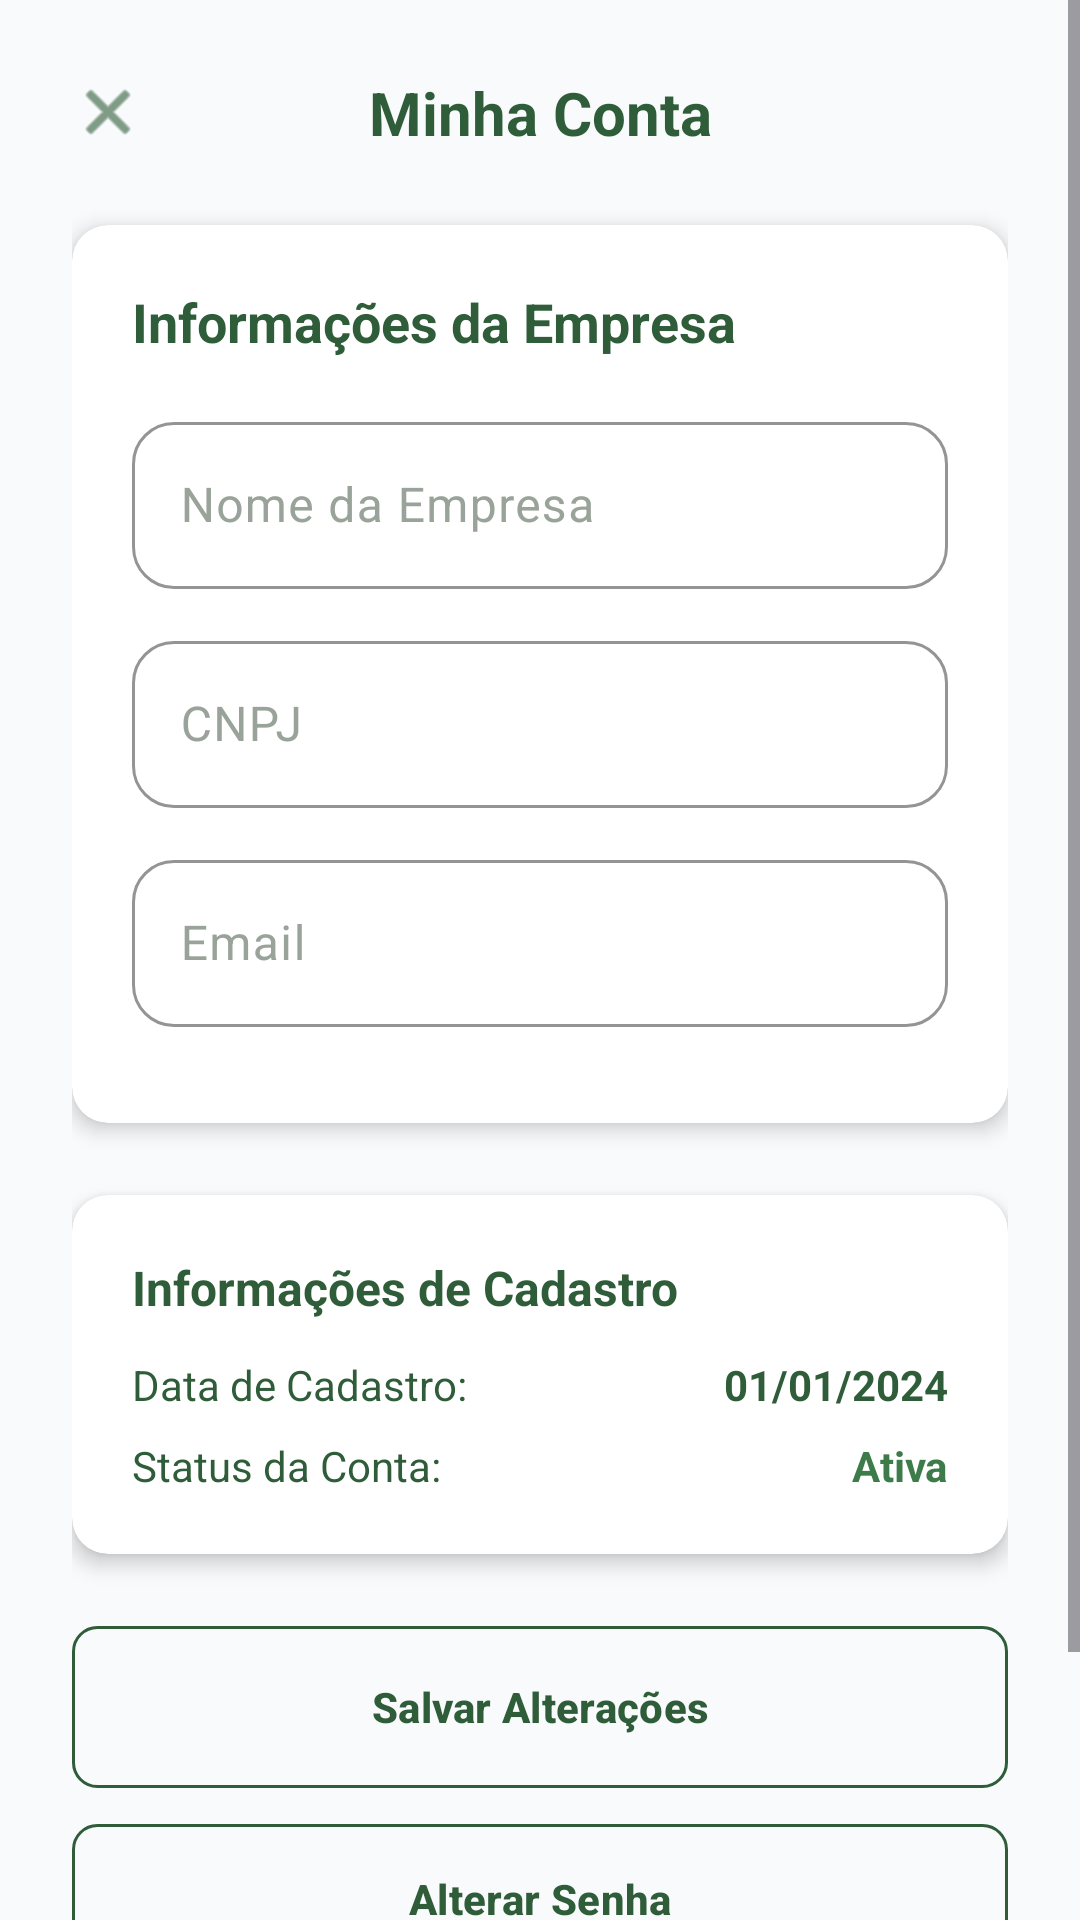

Icons on this 1080×1920 Android screen, each with the point to tap as point (x, y):
close clear cancel: point (108, 112)
